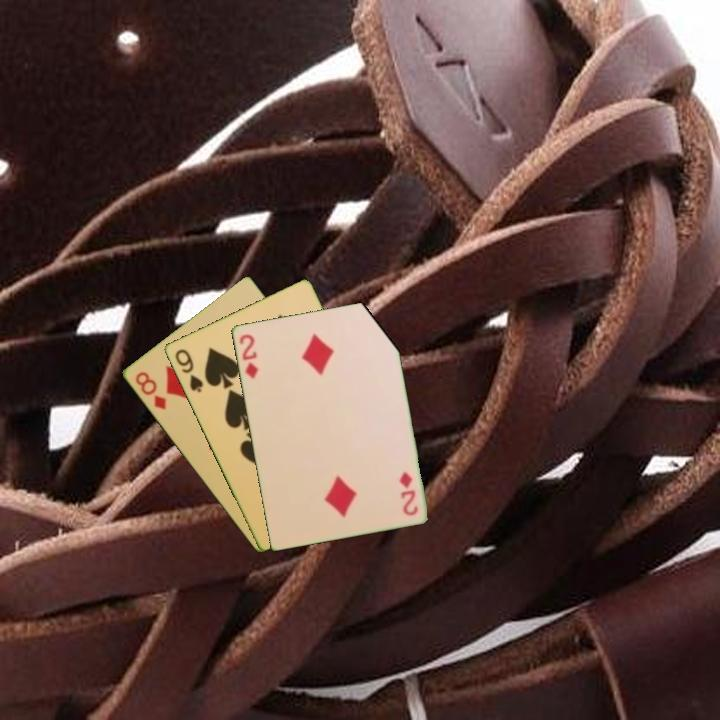2d: (236, 330, 260, 381), (396, 468, 420, 518)
8d: (131, 368, 169, 413)
9s: (171, 345, 206, 395)
